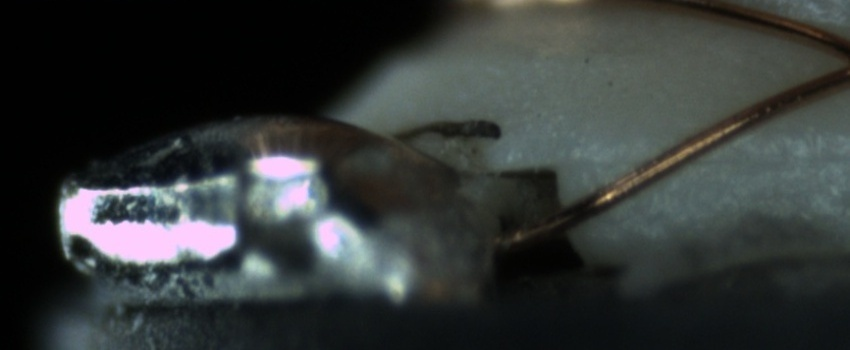CL: (828, 36, 850, 88)
DL: (605, 124, 850, 190)
